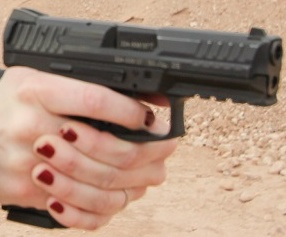pistol: (1, 4, 286, 231)
